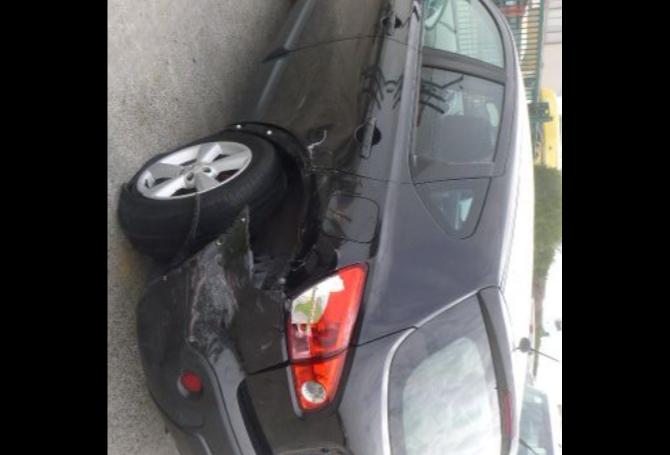Broken part: (226, 120, 326, 332), (286, 264, 368, 362), (140, 190, 202, 284), (123, 182, 136, 198)
Dent: (316, 168, 382, 268), (136, 288, 182, 372), (306, 100, 356, 168), (302, 232, 337, 278)
Paint chip: (306, 130, 326, 160)
Scratch: (180, 214, 254, 364), (286, 94, 306, 125), (256, 294, 266, 314), (260, 340, 274, 352)
